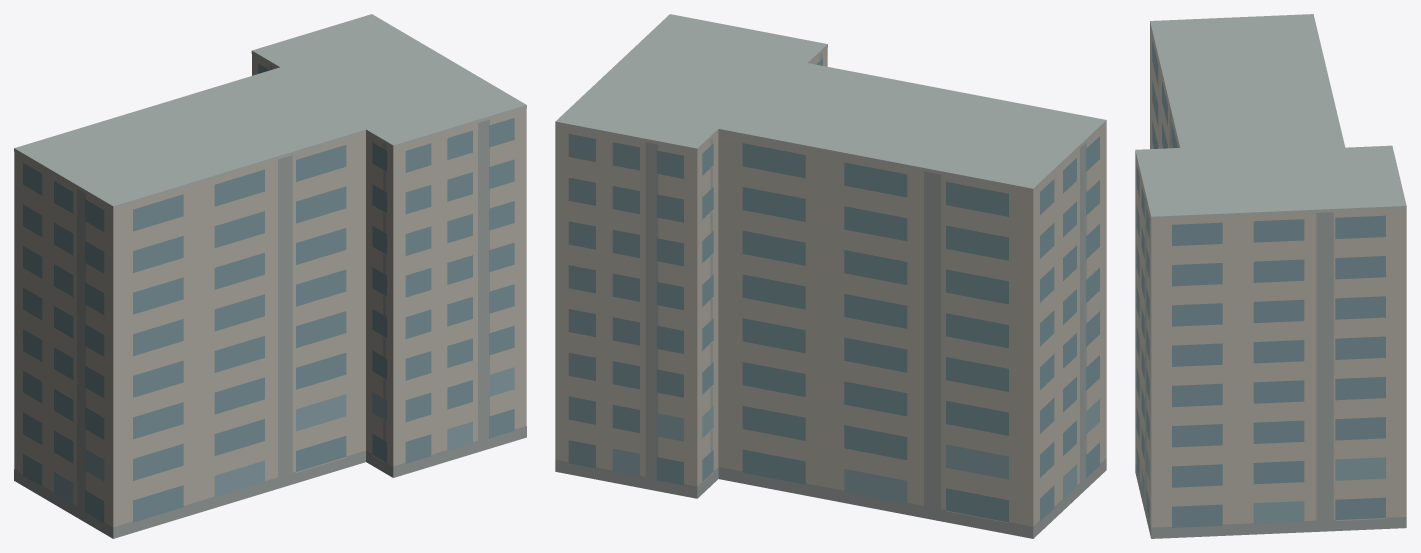
Rendered from residential-67e1689d-5645-4a93-b773-404d7166edd8.glb.
3 views of the same model, side by side, from view 1: azimuth 30°, elevation 25°; view 2: azimuth 150°, elevation 25°; view 3: azimuth 270°, elevation 25° (orthographic). The views are drawn at different scales.
Visible parts, largest first — view 1: residential-67e1689d-5645-4a93-b773-404d7166edd8.tmp; view 2: residential-67e1689d-5645-4a93-b773-404d7166edd8.tmp; view 3: residential-67e1689d-5645-4a93-b773-404d7166edd8.tmp.
Boxes of the visible parts, x1,y1,x2,y2 form: residential-67e1689d-5645-4a93-b773-404d7166edd8.tmp: (14, 14, 526, 538); residential-67e1689d-5645-4a93-b773-404d7166edd8.tmp: (555, 14, 1106, 538); residential-67e1689d-5645-4a93-b773-404d7166edd8.tmp: (1135, 14, 1406, 538).
Size of the model in its own units: 32.93 by 24.4 by 18.64.
